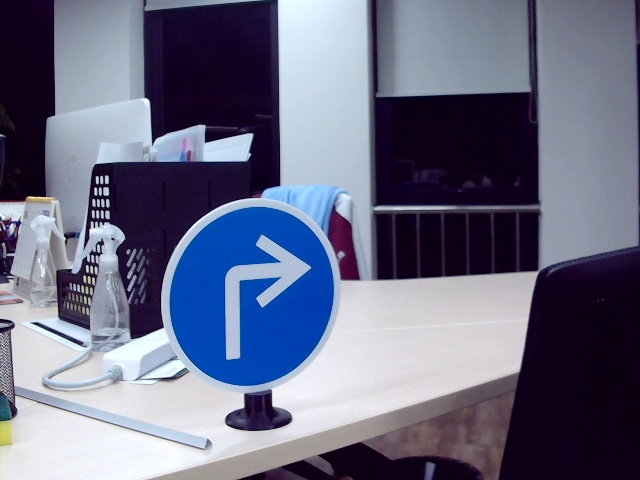turn_right: (216, 238, 305, 361)
